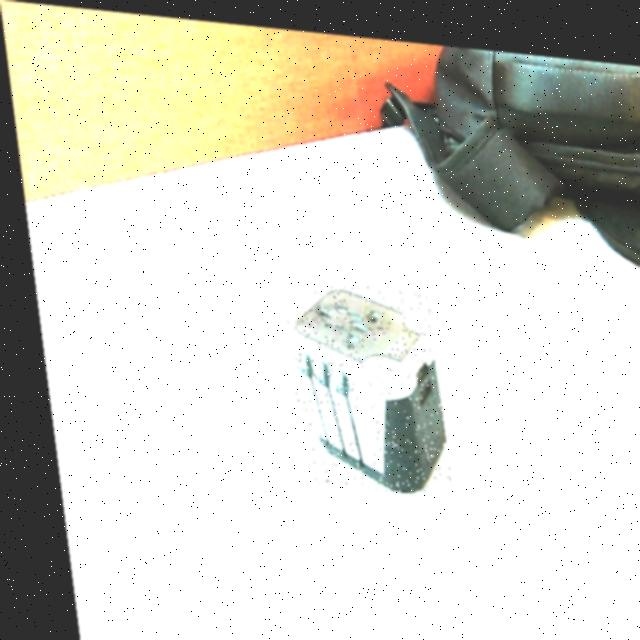adapter: (275, 272, 441, 489)
